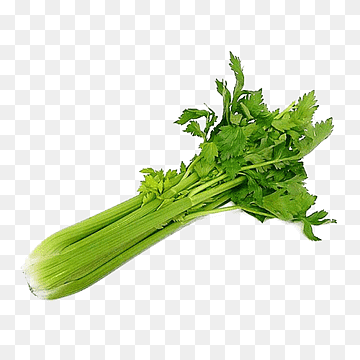Seledri: (22, 65, 345, 320)
